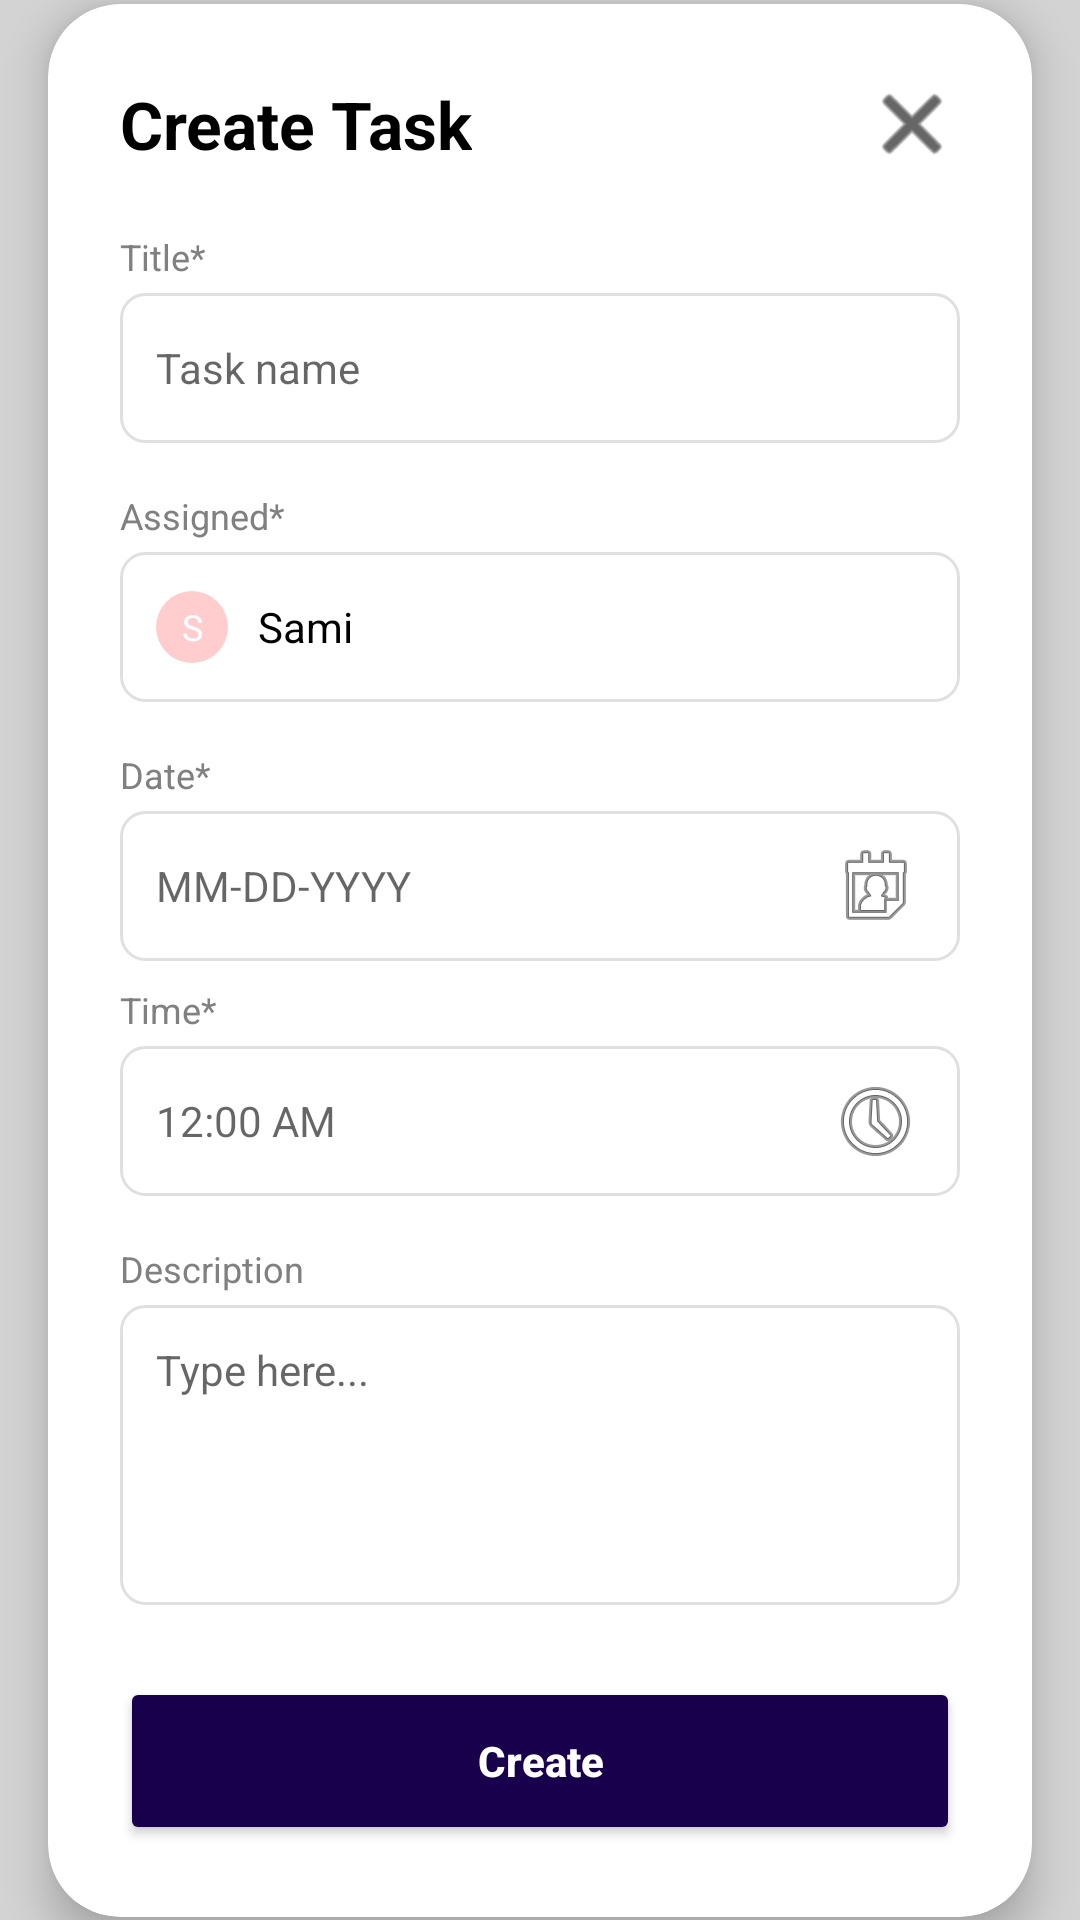

Icons on this 1080x1920 Android screen, each with its box as [x1,y1,x2,y2]:
Close: [882,94,942,154]
